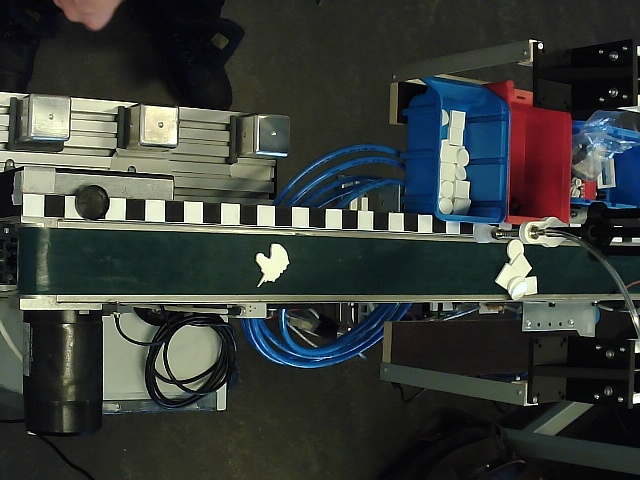unicorn: (253, 243, 290, 287)
